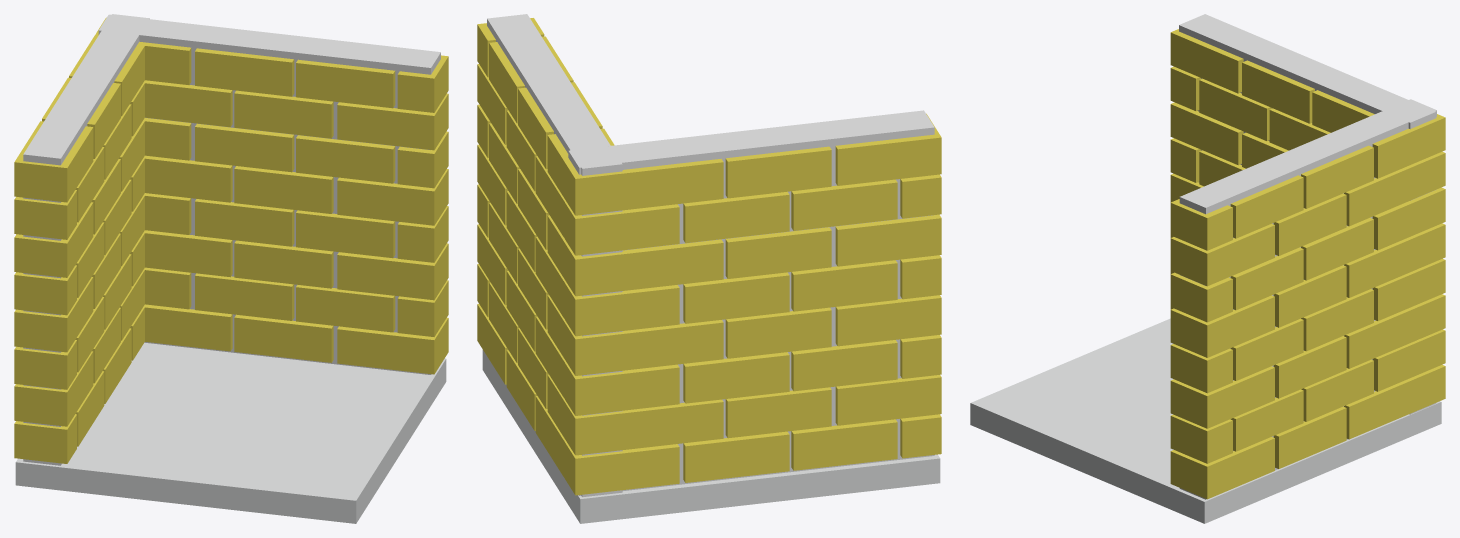
File: duvar 2.1.3.fbx
3 renders of one model, left to right at view 1: azimuth 30°, elevation 25°; view 2: azimuth 150°, elevation 25°; view 3: azimuth 270°, elevation 25°, orthographic. The views are drawn at different scales.
Parts seen in each view (by area): view 1: zemin3; view 2: zemin3; view 3: zemin3.
Part boxes in pixels (x1,y1,x2,y2): zemin3: (14, 14, 448, 523); zemin3: (477, 14, 941, 523); zemin3: (970, 14, 1445, 523).
Size of the model in its own units: 1745 by 1269 by 1740.
